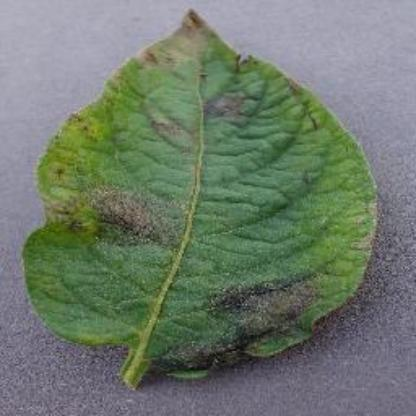Late-Blight: (21, 6, 382, 386)
